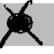not correct: (0, 0, 44, 49)
